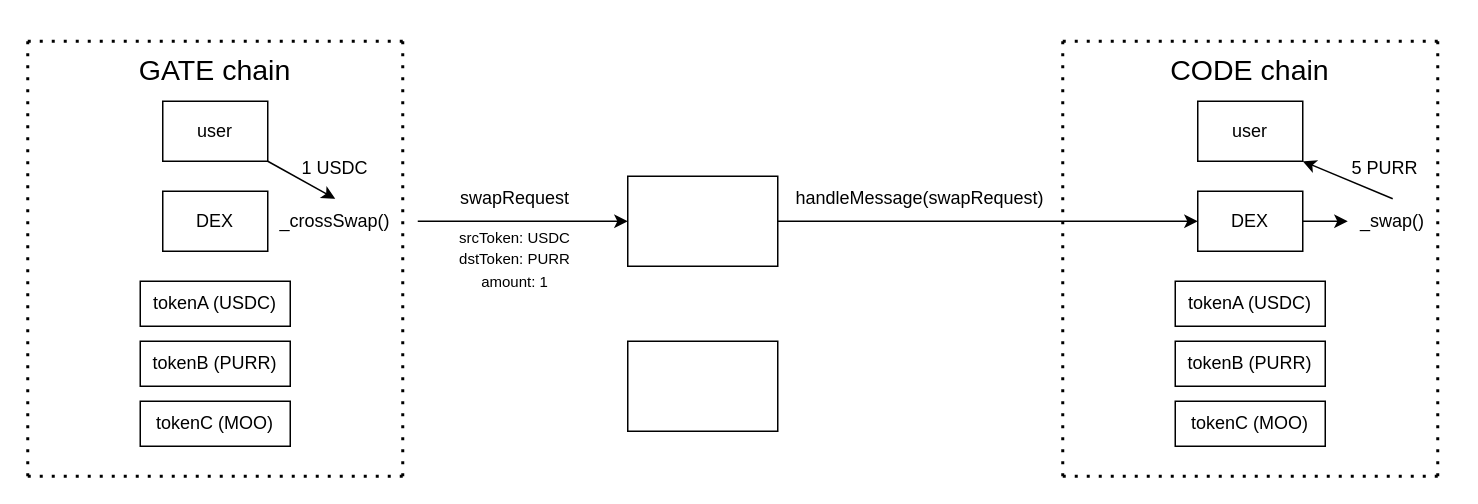
This 1478x504 diagram has some shape labels left out. Here are the shapes that lost their labels. From the top down, the box of each, then its label:
(626, 175, 778, 266): GATE -> CODE Relayer
(626, 340, 778, 431): CODE -> GATE Relayer
